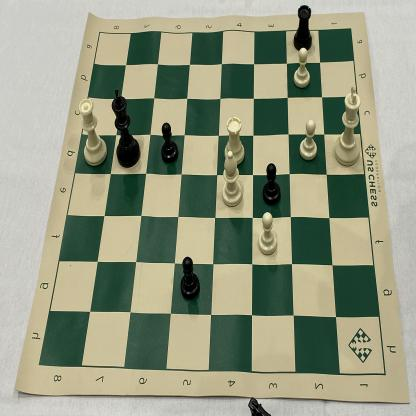black-king: (109, 85, 143, 171)
black-pawn: (176, 252, 202, 302), (260, 159, 284, 209), (159, 117, 181, 167)
black-rook: (290, 2, 316, 54)
white-bishop: (217, 150, 245, 212)
white-king: (330, 80, 364, 168)
white-pawn: (254, 210, 281, 260), (295, 118, 321, 166), (290, 48, 314, 92)
white-queen: (76, 93, 108, 169)
white-rook: (221, 110, 247, 167)
